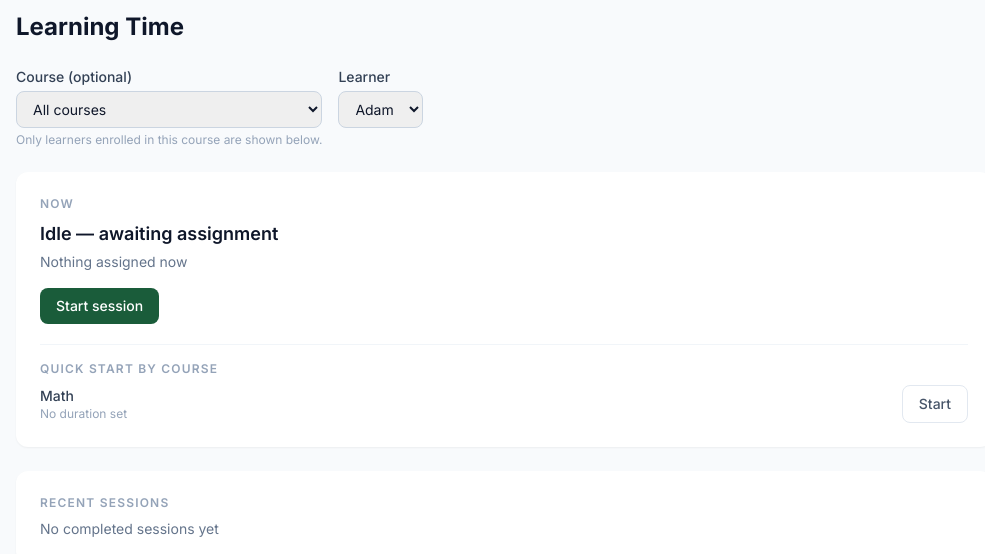
Test: LearningTimePage — course selection (feedback 66087f44) › selecting a course narrows the Learner dropdown to its enrolled learners and switches the selection
The width and height of the screenshot is (985, 554).
Select "Reading" in the dropdown with test id "course-select" at (169, 110), box x1=16 y1=91 x2=322 y2=128
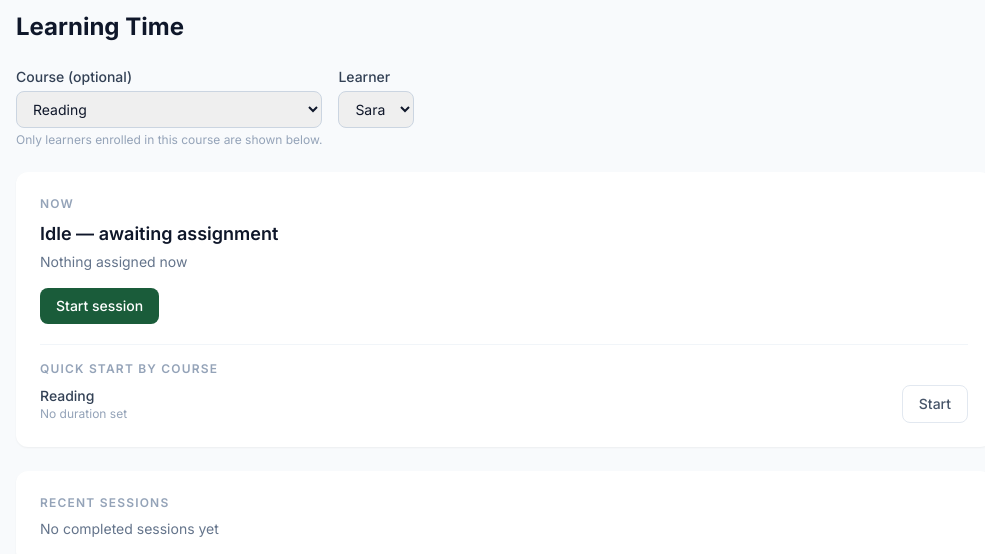
Now the dropdown with test id "learner-select" shows "Sara", box x1=338 y1=91 x2=414 y2=128
